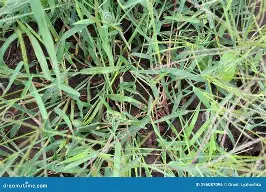weed: (0, 0, 265, 176)
